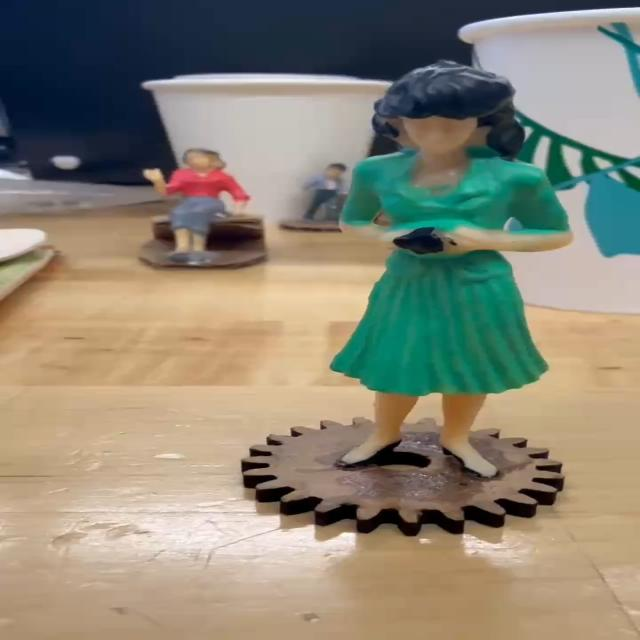Authorized: (336, 59, 580, 482)
